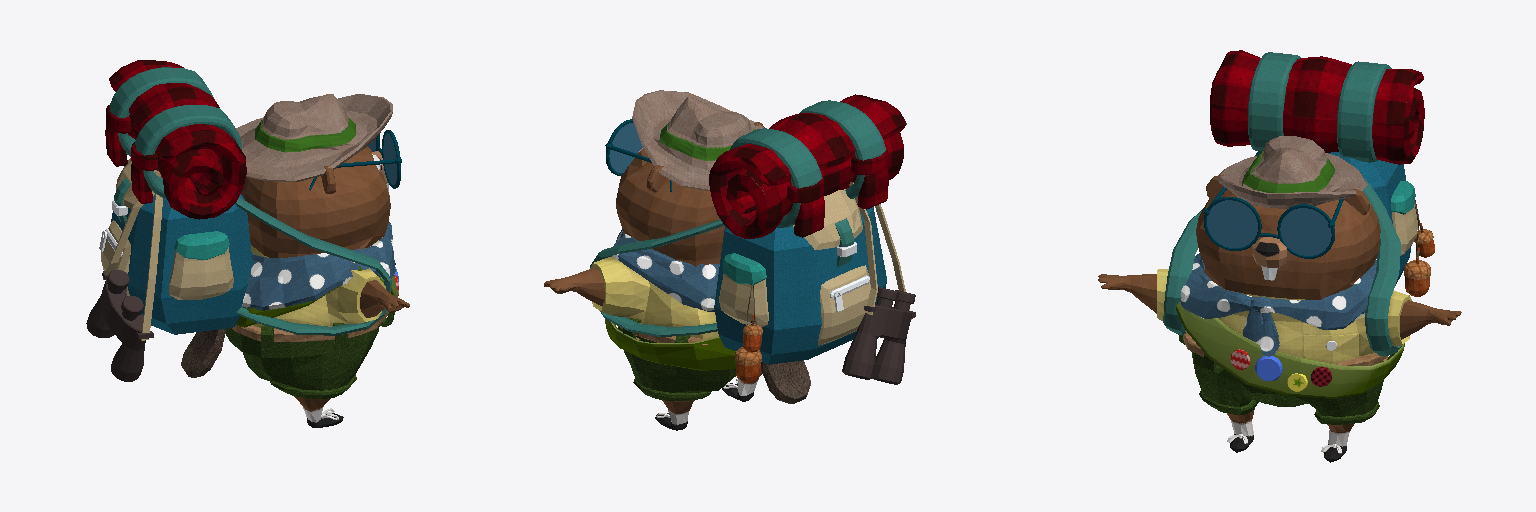
The picture shows the model from 3 angles: view 1: azimuth 30°, elevation 25°; view 2: azimuth 150°, elevation 25°; view 3: azimuth 270°, elevation 25°; orthographic projection.
Visible parts, largest first — view 1: uploads_files_[number redacted]_Beaver; view 2: uploads_files_[number redacted]_Beaver; view 3: uploads_files_[number redacted]_Beaver.
Part boxes in pixels (x1,y1,x2,y2): uploads_files_[number redacted]_Beaver: (86, 60, 409, 427); uploads_files_[number redacted]_Beaver: (544, 90, 915, 430); uploads_files_[number redacted]_Beaver: (1098, 50, 1461, 462).
Size of the model in its own units: 1.57 by 1.78 by 1.76.
1 materials, 1 textured.